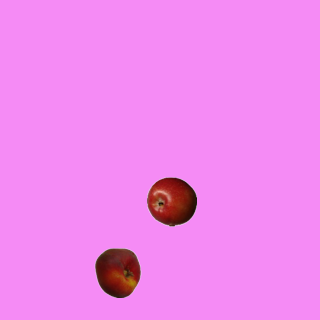Apple Braeburn: (146, 176, 196, 226)
Nectarine Flat: (92, 247, 142, 297)
